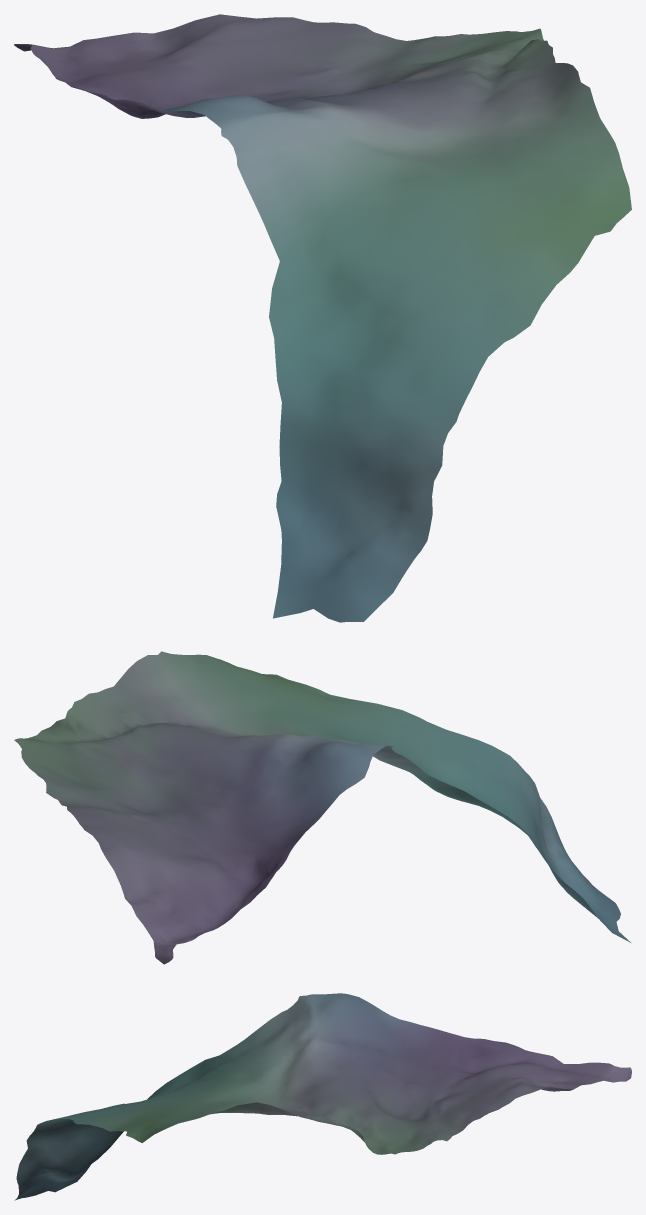
File: LODS_Cloud_global_0.glb
3 views of the same model, one above another, from view 1: azimuth 30°, elevation 25°; view 2: azimuth 150°, elevation 25°; view 3: azimuth 270°, elevation 25° (orthographic). The views are drawn at different scales.
Parts seen in each view (by area): view 1: LOD0; view 2: LOD0; view 3: LOD0.
Part boxes in pixels (box(x1,y1,x2,y2)): LOD0: box(14, 14, 631, 622); LOD0: box(14, 651, 630, 964); LOD0: box(14, 993, 631, 1200).
Size of what is drawn, in the model's own units: 0.1862 by 0.1198 by 0.282.
